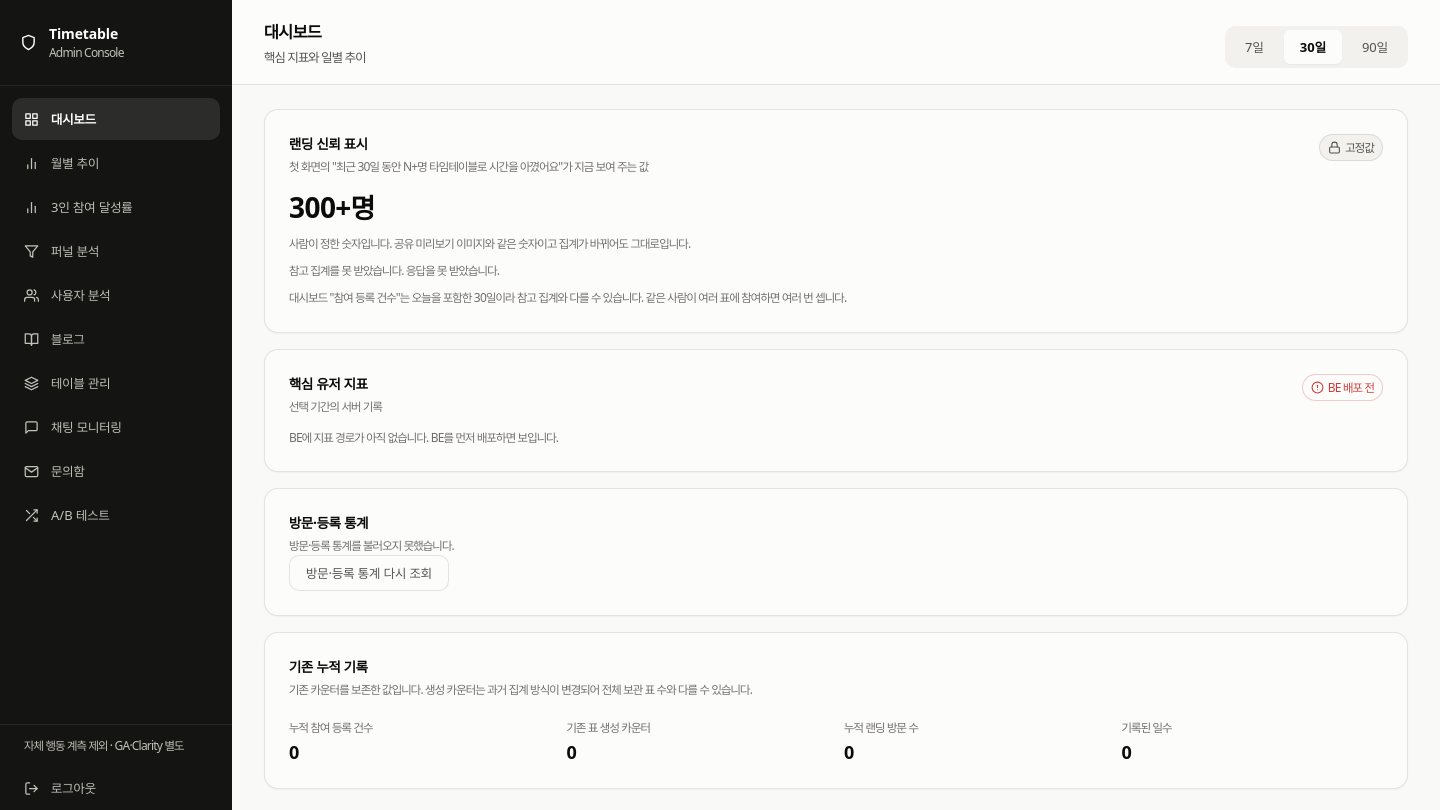
Test: 방문 통계가 실패해도 참여 탭은 독립적으로 조회된다
Expected: the text "방문·등록 통계를 불러오지 못했습니다." is shown, [289, 537, 454, 554]
Click the button "3인 참여 달성률" at (116, 207), box [12, 186, 220, 228]
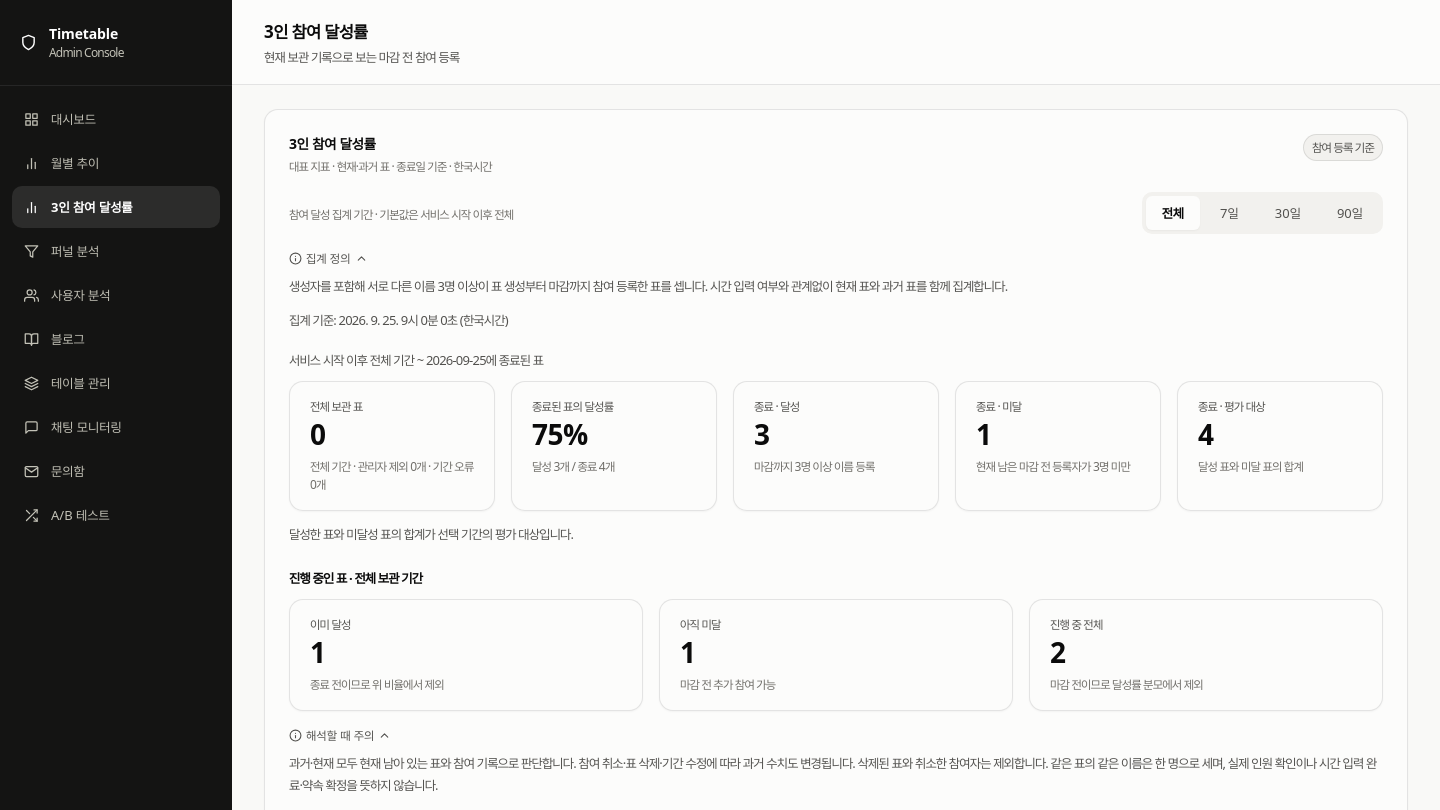
Expected: the text "75%" is shown, [532, 415, 588, 453]
